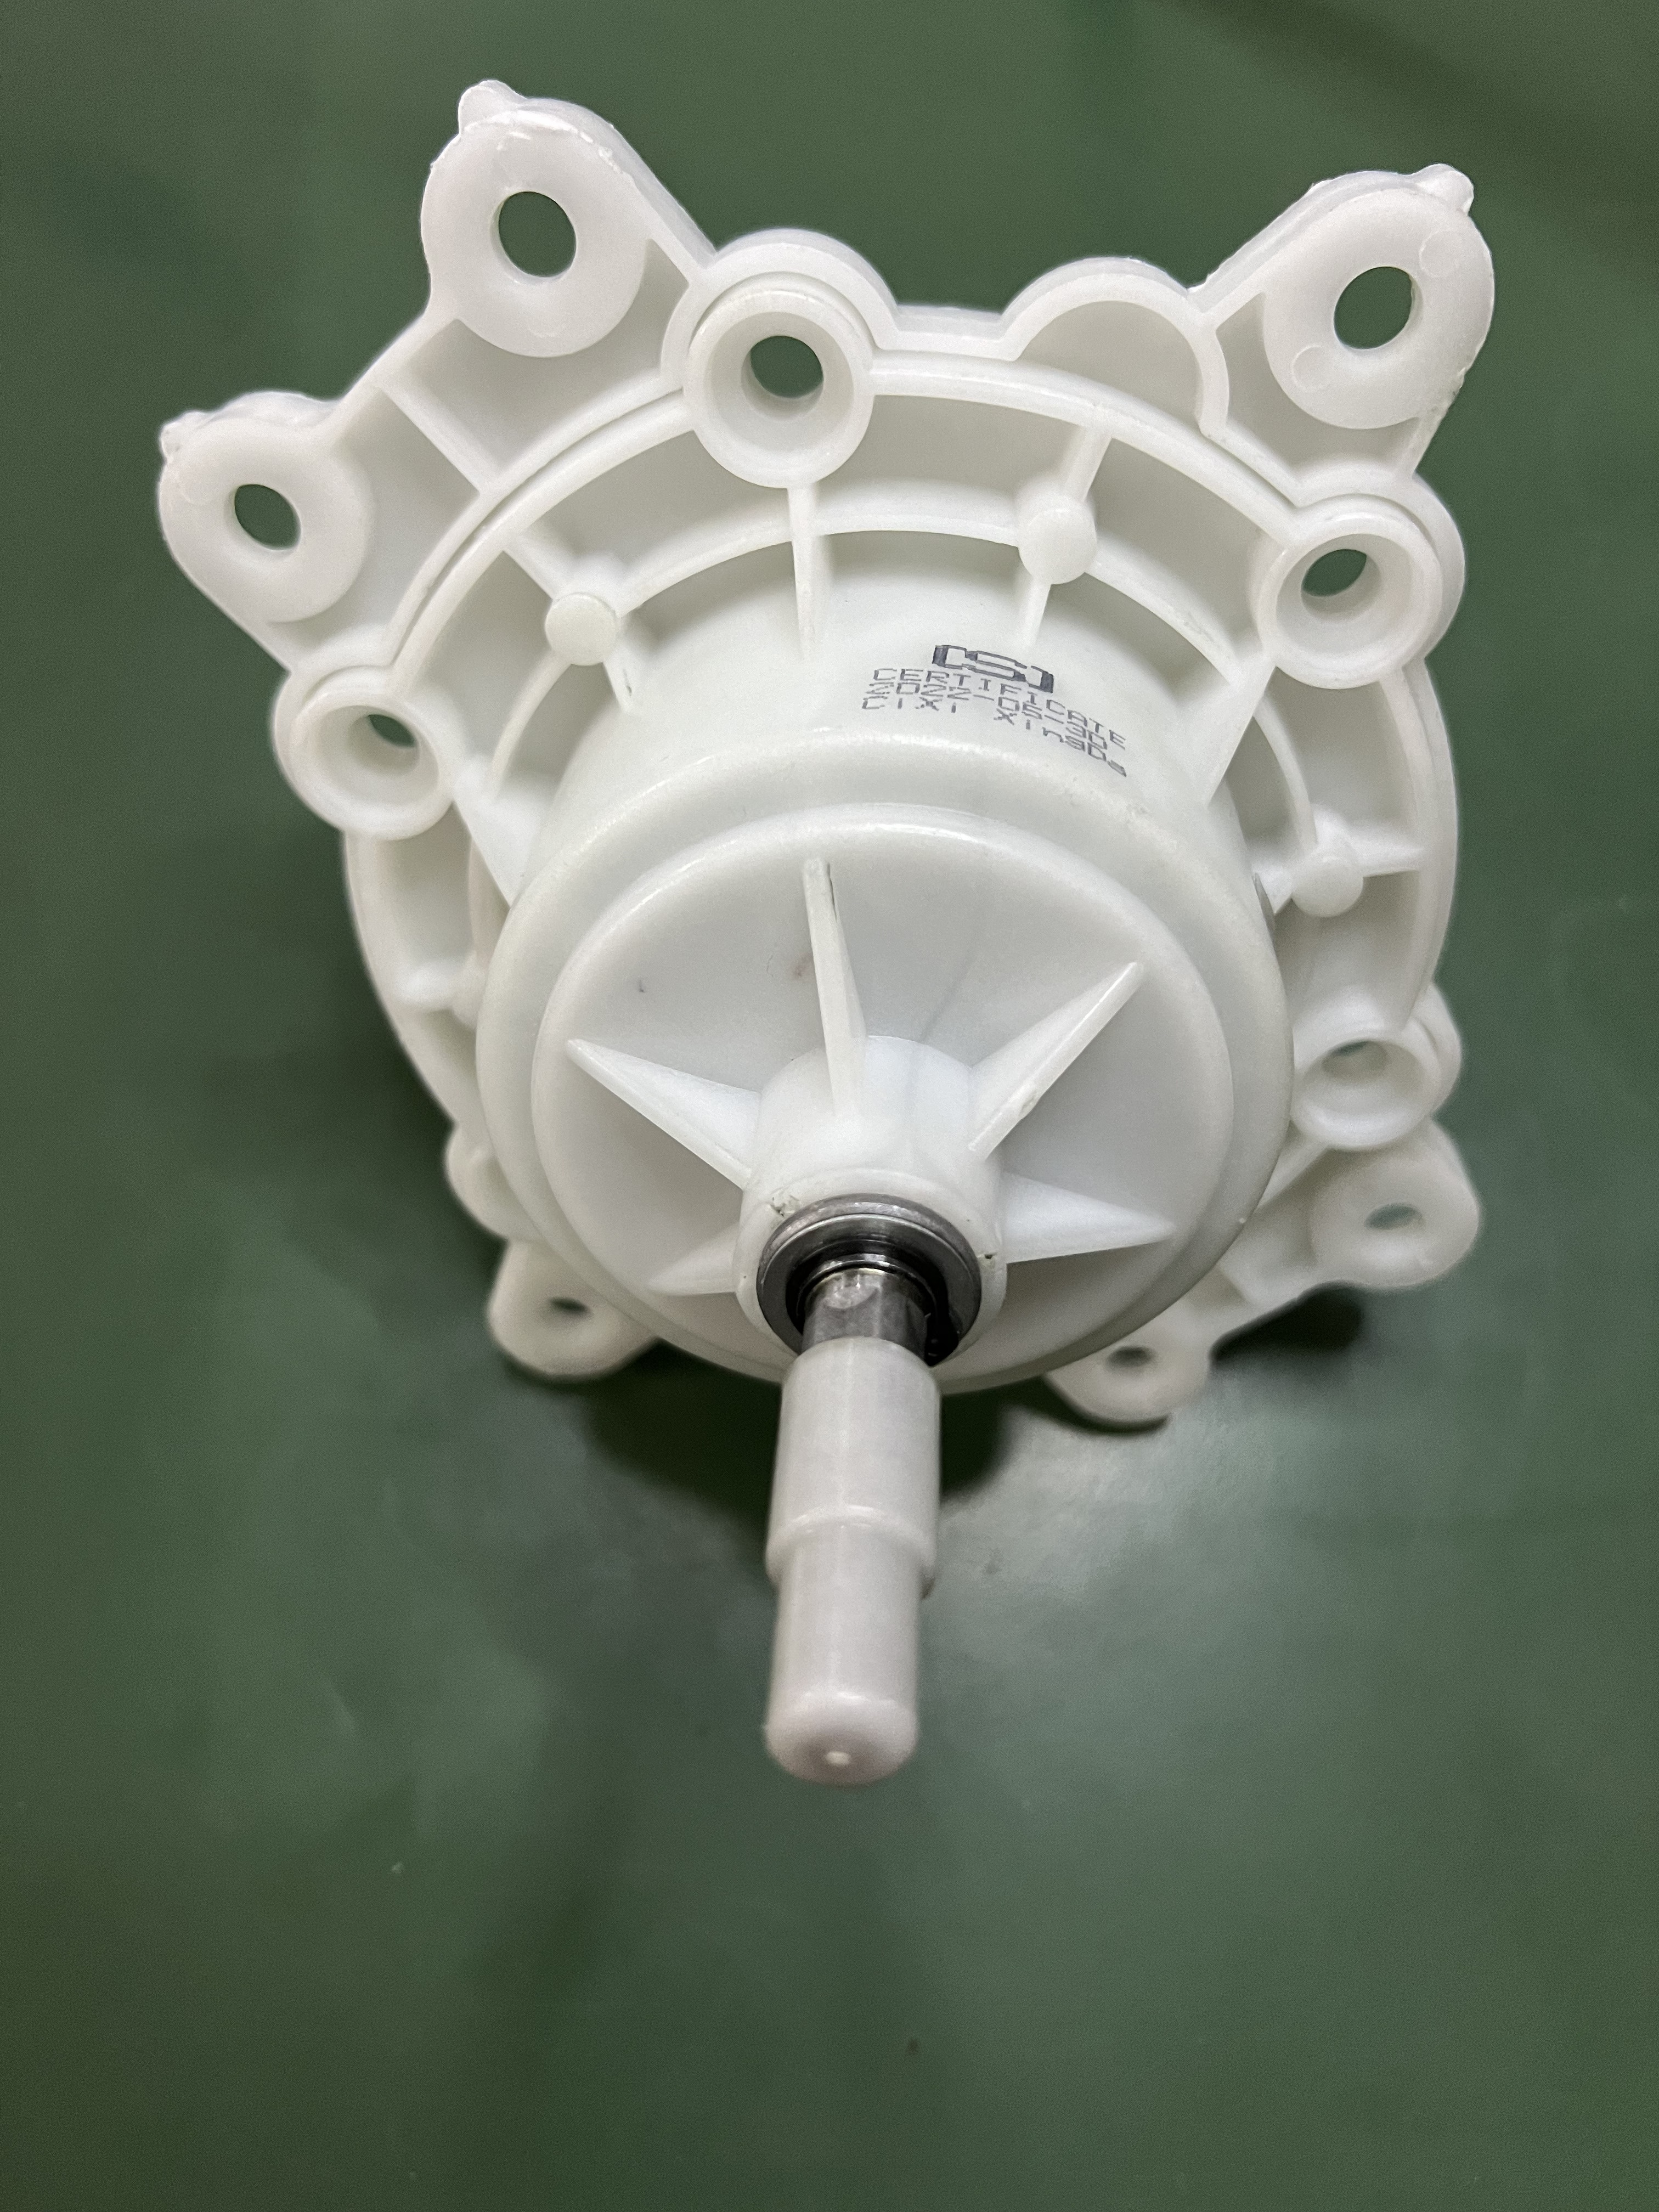gear_box_design: (134, 63, 1528, 1789)
